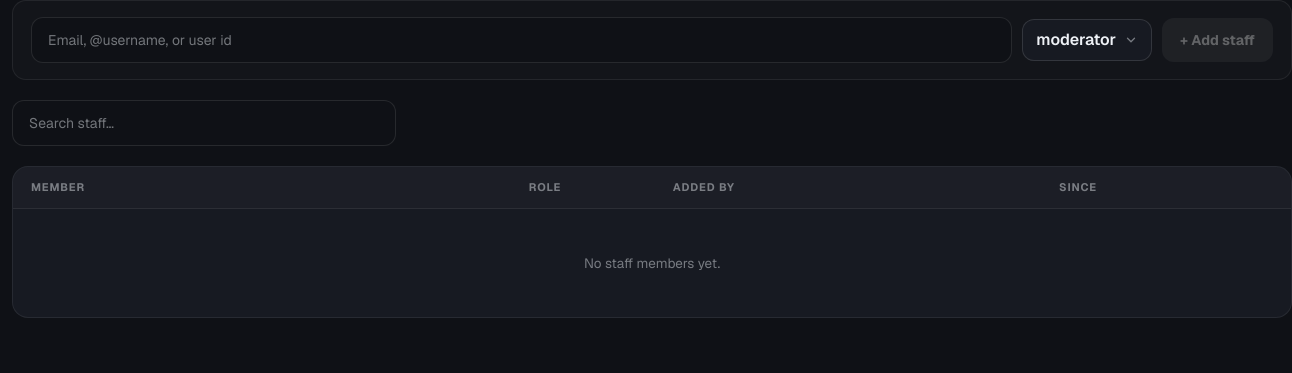
Test: StaffTab › add staff › shows a no-match error when a username search returns nothing
Expected: the text "No staff members yet." is shown, [584,254,720,272]
Type "nobody" into the field named "Email, username, or user id of the user to add as staff". click: (522, 40)
box: [31,17,1012,63]
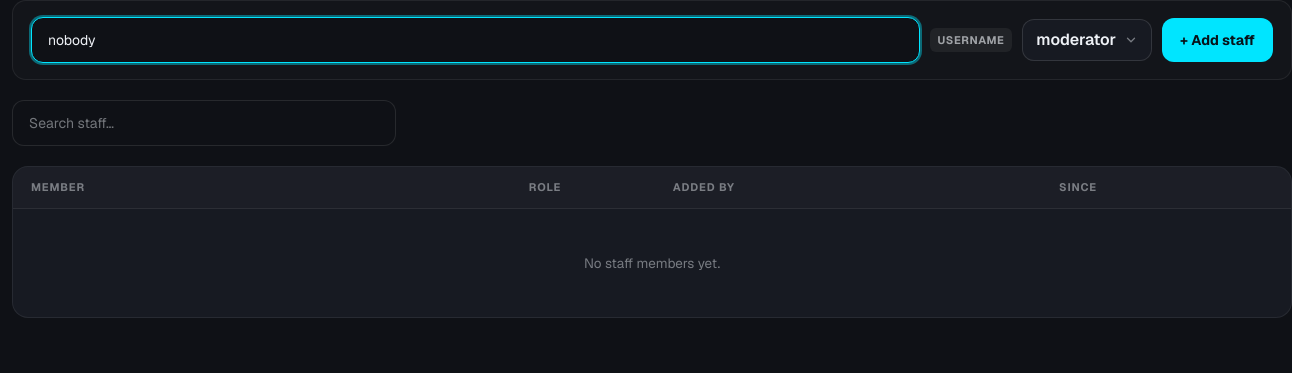
Click the button "+ Add staff". click: (1218, 40)
box: [1162,18,1273,62]
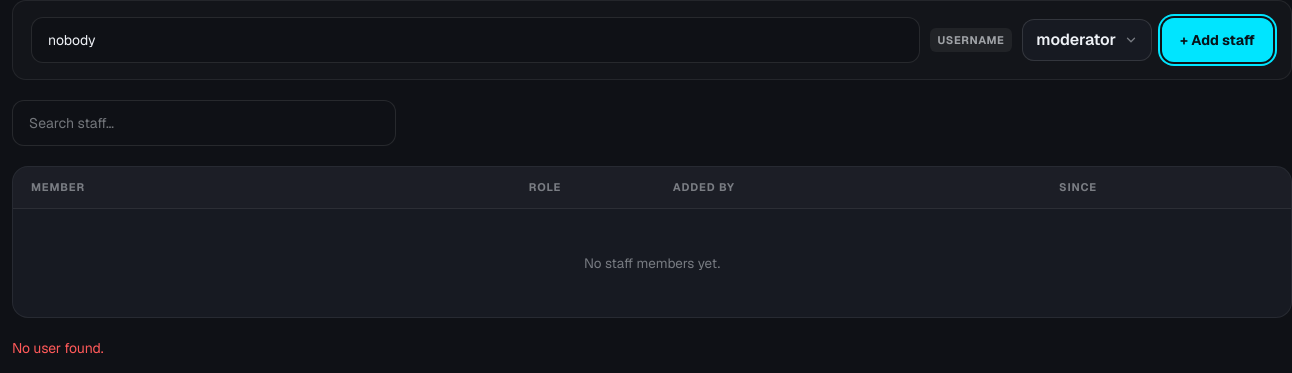
Expected: the text "No user found." is shown, [12,339,103,357]
